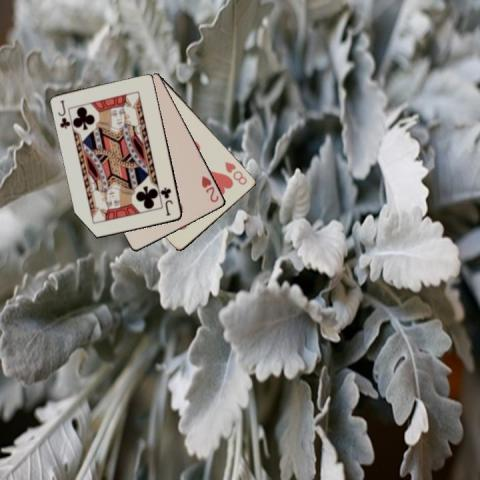2h: (199, 173, 220, 204)
8h: (222, 159, 249, 186)
Jc: (55, 97, 72, 131), (159, 184, 174, 216)
